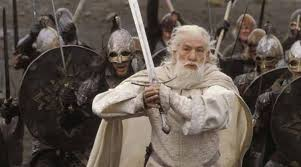gandalf gray: (117, 21, 249, 147)
